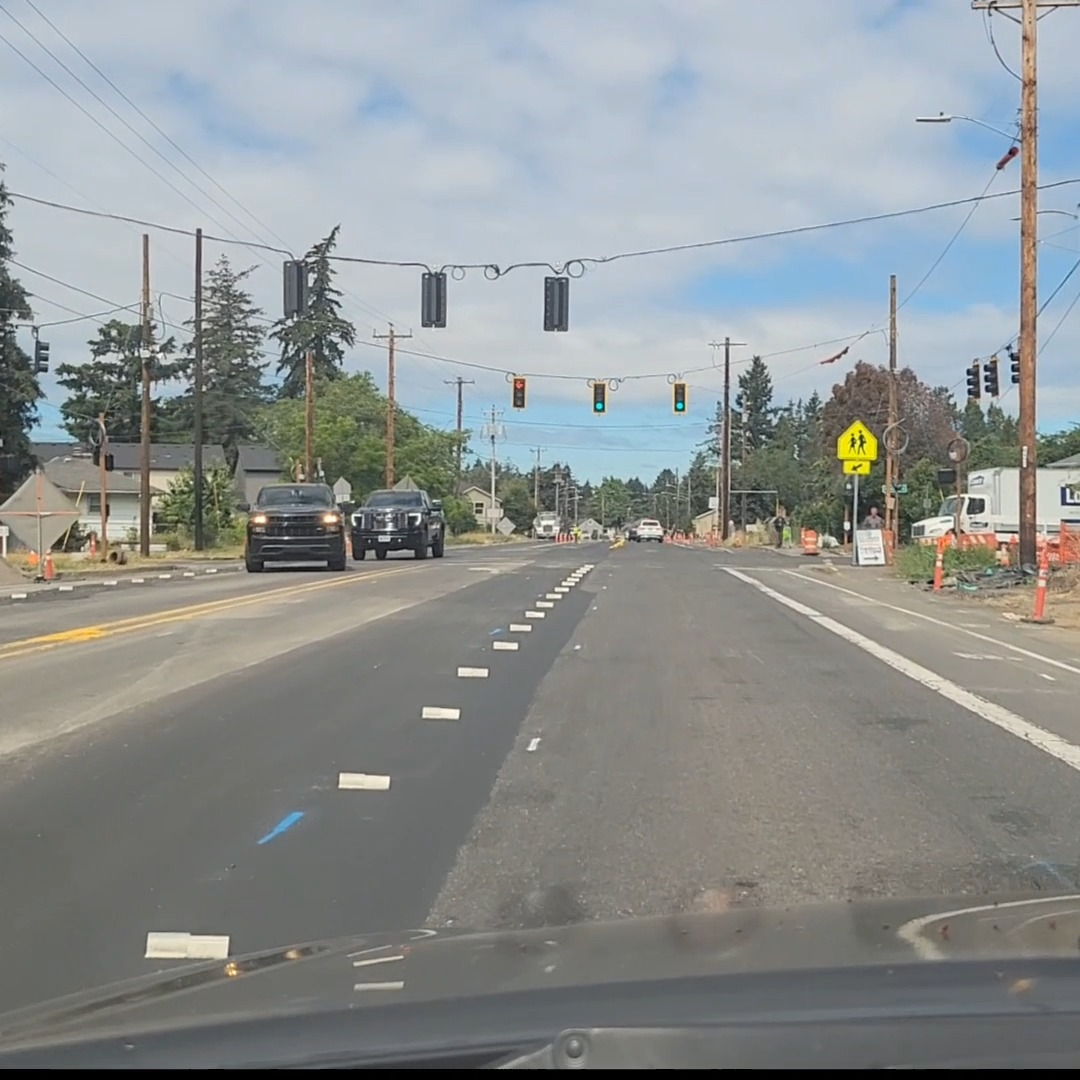car: (240, 483, 348, 572), (348, 488, 447, 560), (627, 518, 664, 542)
crosswalk-sign: (836, 419, 877, 473)
delineator: (1023, 536, 1055, 623), (931, 535, 945, 590), (42, 550, 55, 579), (943, 526, 958, 544), (86, 531, 98, 553)
